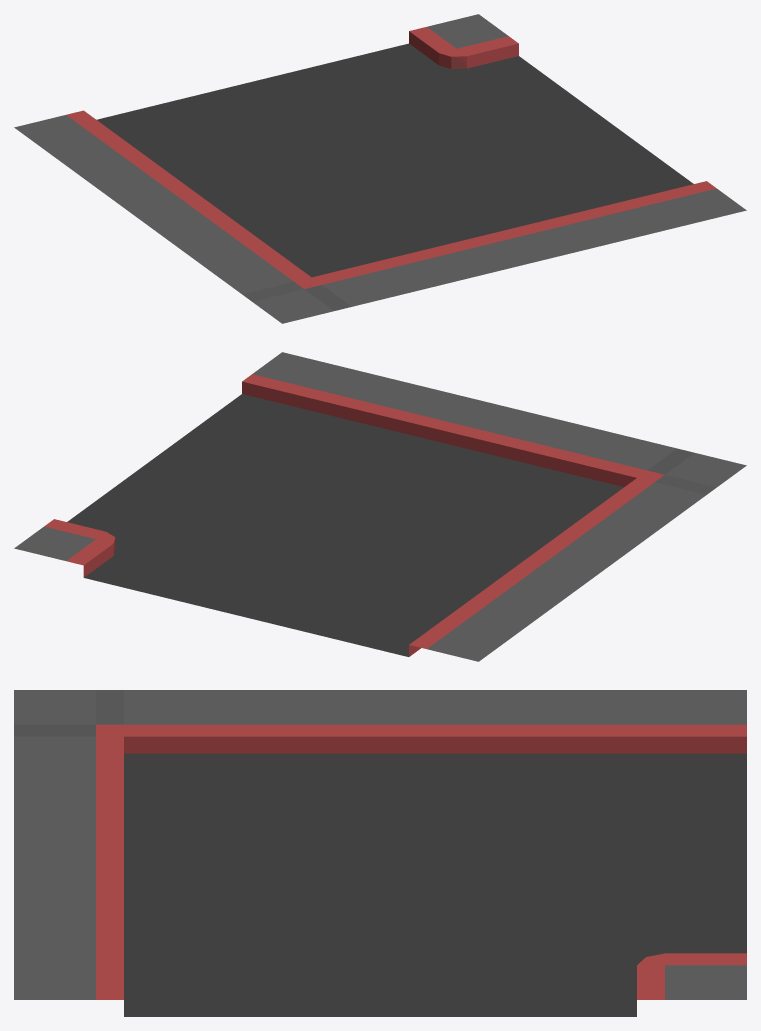
The model's file is SM_Crossroads03.FBX.
3 renders of one model, top to bottom at view 1: azimuth 30°, elevation 25°; view 2: azimuth 150°, elevation 25°; view 3: azimuth 270°, elevation 25°, orthographic. The views are drawn at different scales.
Parts seen in each view (by area): view 1: crossroads03_new; view 2: crossroads03_new; view 3: crossroads03_new.
Boxes of the visible parts, x1,y1,x2,y2 form: crossroads03_new: (14, 14, 746, 323); crossroads03_new: (14, 352, 746, 661); crossroads03_new: (14, 690, 746, 1016).
Bounding box in the file's own units: 1000 × 25.47 × 1000.
